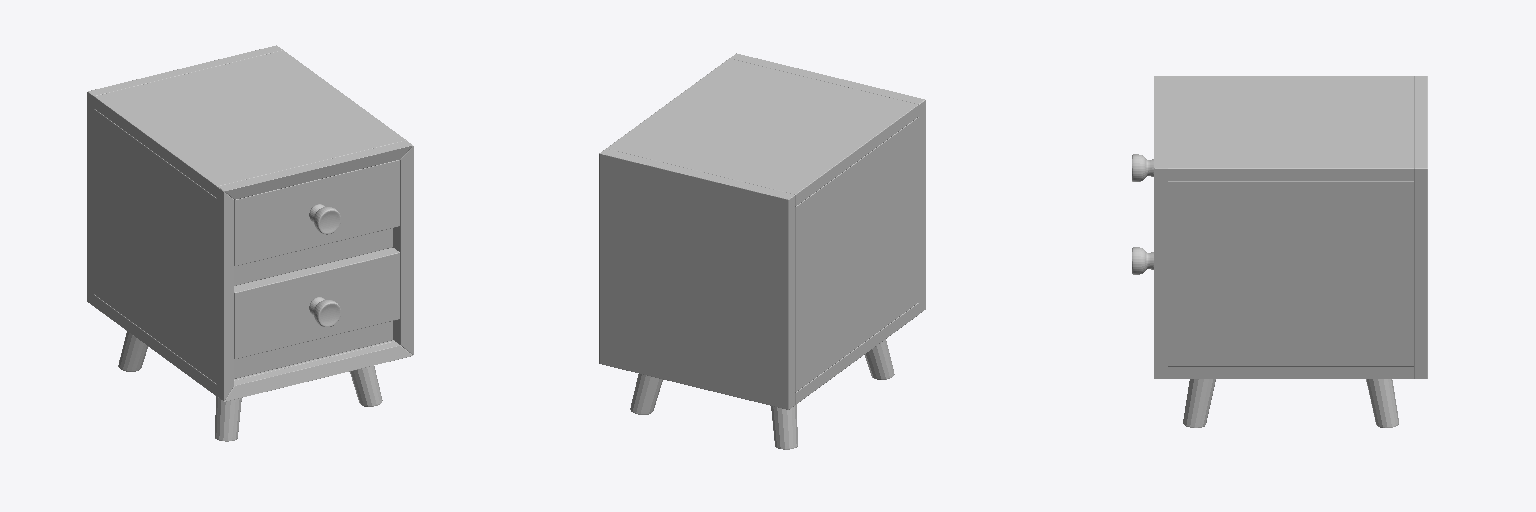
File: mejaKecil.obj
3 renders of one model, left to right at view 1: azimuth 30°, elevation 25°; view 2: azimuth 150°, elevation 25°; view 3: azimuth 270°, elevation 25°, orthographic.
Parts seen in each view (by area): view 1: Plane.005, Plane, Plane.002, Plane.003, Plane.001, Plane.004, Cube.002, Plane.006, Cube.001, Cube; view 2: Plane.004, Plane.005, Plane, Plane.001, Cube.002, Plane.006; view 3: Plane.007, Plane.005, Plane.004, Plane.001, Plane.006, Cube.002.
Part boxes in pixels (left/top/right/bottom): Plane.005: left=94, top=50, right=406, bottom=197; Plane: left=94, top=109, right=216, bottom=383; Plane.002: left=234, top=248, right=399, bottom=378; Plane.003: left=234, top=160, right=399, bottom=285; Plane.001: left=217, top=141, right=413, bottom=401; Plane.004: left=87, top=45, right=282, bottom=305; Cube.002: left=118, top=331, right=382, bottom=441; Plane.006: left=94, top=295, right=394, bottom=395; Cube.001: left=309, top=297, right=340, bottom=326; Cube: left=309, top=204, right=340, bottom=234; Plane.004: left=599, top=149, right=794, bottom=409; Plane.005: left=606, top=58, right=918, bottom=206; Plane: left=795, top=117, right=918, bottom=392; Plane.001: left=730, top=53, right=925, bottom=313; Cube.002: left=630, top=339, right=894, bottom=449; Plane.006: left=795, top=303, right=918, bottom=404; Plane.007: left=1168, top=181, right=1413, bottom=366; Plane.005: left=1168, top=76, right=1413, bottom=180; Plane.004: left=1414, top=76, right=1427, bottom=378; Plane.001: left=1154, top=76, right=1167, bottom=378; Plane.006: left=1168, top=367, right=1413, bottom=378; Cube.002: left=1183, top=379, right=1398, bottom=427.
Bounding box in the file's own units: 0.4 × 0.5385 × 0.5406.